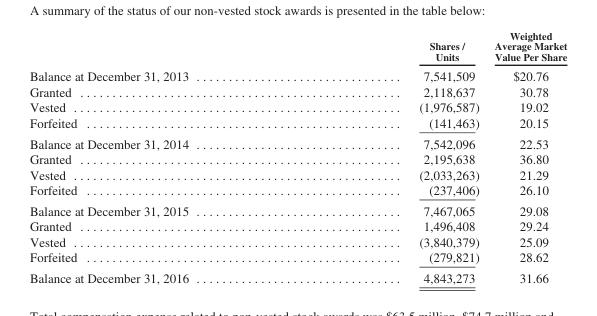table: (28, 29, 566, 284)
table column: (28, 29, 303, 284), (303, 29, 486, 284), (486, 29, 566, 284)
table column header: (28, 29, 566, 65)
table row: (28, 29, 566, 65), (28, 181, 566, 200), (28, 65, 566, 83), (28, 114, 566, 132), (28, 132, 566, 150), (28, 200, 566, 218), (28, 249, 566, 267), (28, 267, 566, 284), (28, 83, 566, 99), (28, 150, 566, 166), (28, 233, 566, 249), (28, 99, 566, 114), (28, 166, 566, 181), (28, 218, 566, 233)
